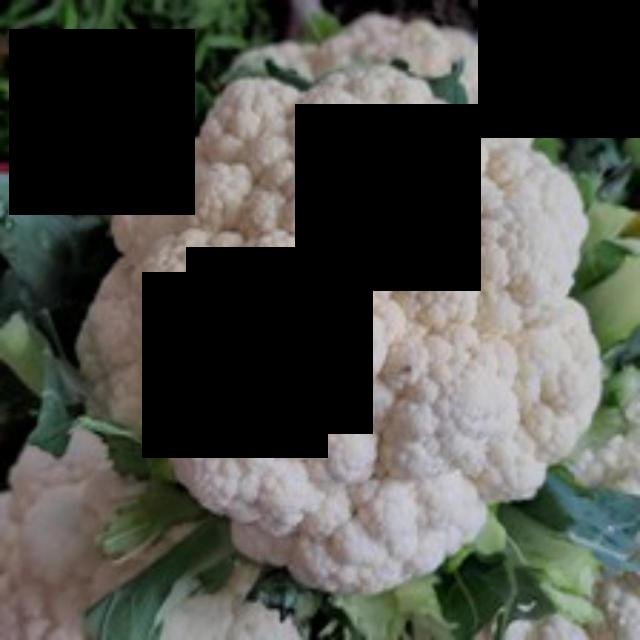cauliflower: (64, 44, 604, 612)
